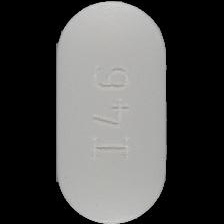10544-255: (0, 0, 224, 224)
